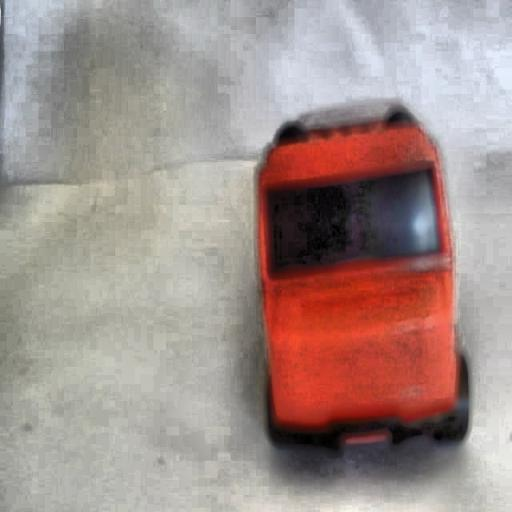fire_truck: (250, 102, 472, 456)
